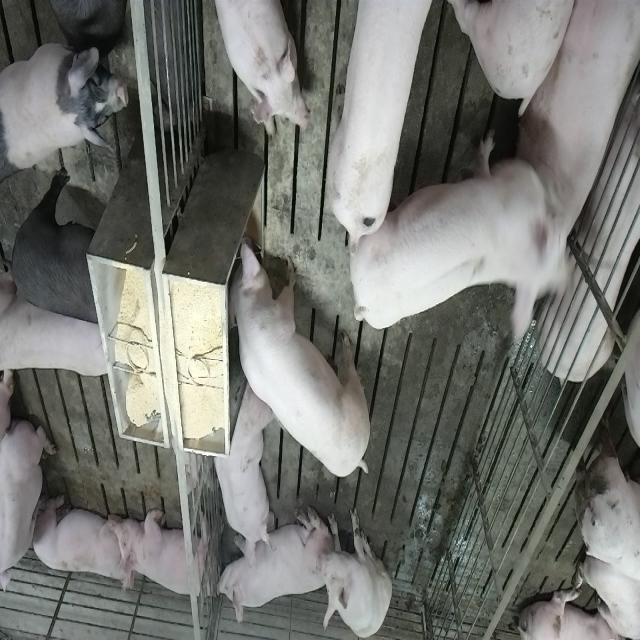Feeding: (220, 229, 368, 479)
Sitting: (316, 505, 392, 639)
Standing: (352, 124, 558, 331), (320, 0, 426, 248), (2, 41, 130, 182), (8, 170, 107, 329), (2, 279, 116, 373), (576, 430, 640, 591)
Sternal_lying: (541, 51, 640, 388), (512, 0, 640, 260), (214, 502, 324, 630), (207, 0, 309, 138), (210, 384, 272, 564), (3, 410, 57, 604), (30, 491, 130, 589), (117, 505, 215, 604)
